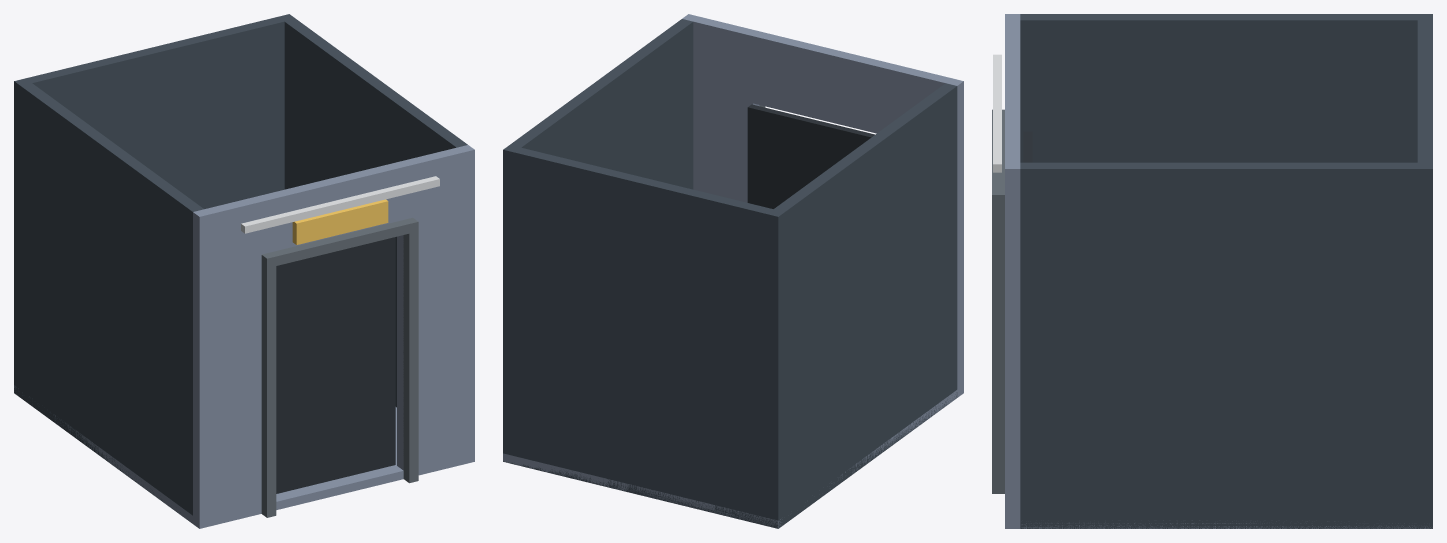
File: nucleo_comunicaciones.gltf
3 views of the same model, side by side, from view 1: azimuth 30°, elevation 25°; view 2: azimuth 150°, elevation 25°; view 3: azimuth 270°, elevation 25° (orthographic). The views are drawn at different scales.
Parts seen in each view (by area): view 1: pozo_izq, pozo_fondo, hueco_puerta, fachada_izq, fachada_der, pozo_der, forjado, fachada_sup, marco_izq, marco_der, rotulo, marco_sup (+1 smaller); view 2: pozo_fondo, pozo_izq, pozo_der, fachada_der, fachada_sup, hueco_puerta, fachada_izq, forjado; view 3: pozo_der, pozo_izq, pozo_fondo, fachada_der, marco_der, fachada_sup, tira_luz, forjado, marco_sup, fachada_izq.
Part boxes in pixels (bbox=[...]): pozo_izq: bbox=[20, 83, 203, 515]; pozo_fondo: bbox=[14, 14, 295, 397]; hueco_puerta: bbox=[276, 237, 395, 493]; fachada_izq: bbox=[193, 195, 270, 528]; fachada_der: bbox=[397, 145, 474, 474]; pozo_der: bbox=[284, 19, 467, 407]; forjado: bbox=[14, 385, 474, 528]; fachada_sup: bbox=[264, 162, 403, 252]; marco_izq: bbox=[261, 257, 276, 517]; marco_der: bbox=[403, 224, 418, 483]; rotulo: bbox=[292, 199, 388, 244]; marco_sup: bbox=[261, 217, 418, 267]; pozo_fondo: bbox=[503, 145, 784, 528]; pozo_izq: bbox=[774, 83, 957, 523]; pozo_der: bbox=[510, 19, 693, 189]; fachada_der: bbox=[682, 14, 759, 202]; fachada_sup: bbox=[753, 31, 892, 133]; hueco_puerta: bbox=[747, 104, 874, 208]; fachada_izq: bbox=[886, 64, 963, 397]; forjado: bbox=[503, 385, 963, 528]; pozo_der: bbox=[1020, 162, 1417, 528]; pozo_izq: bbox=[1020, 14, 1417, 162]; pozo_fondo: bbox=[1417, 14, 1432, 528]; fachada_der: bbox=[1005, 129, 1020, 528]; marco_der: bbox=[992, 197, 1004, 493]; fachada_sup: bbox=[1005, 54, 1020, 128]; tira_luz: bbox=[993, 54, 1001, 172]; forjado: bbox=[1005, 520, 1432, 528]; marco_sup: bbox=[992, 109, 1004, 205]; fachada_izq: bbox=[1005, 14, 1020, 53].
Bounding box in the file's own units: 2.4 × 2.6 × 2.88.
